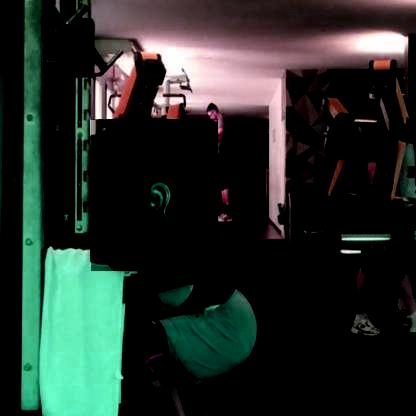barbell: (91, 119, 219, 273)
